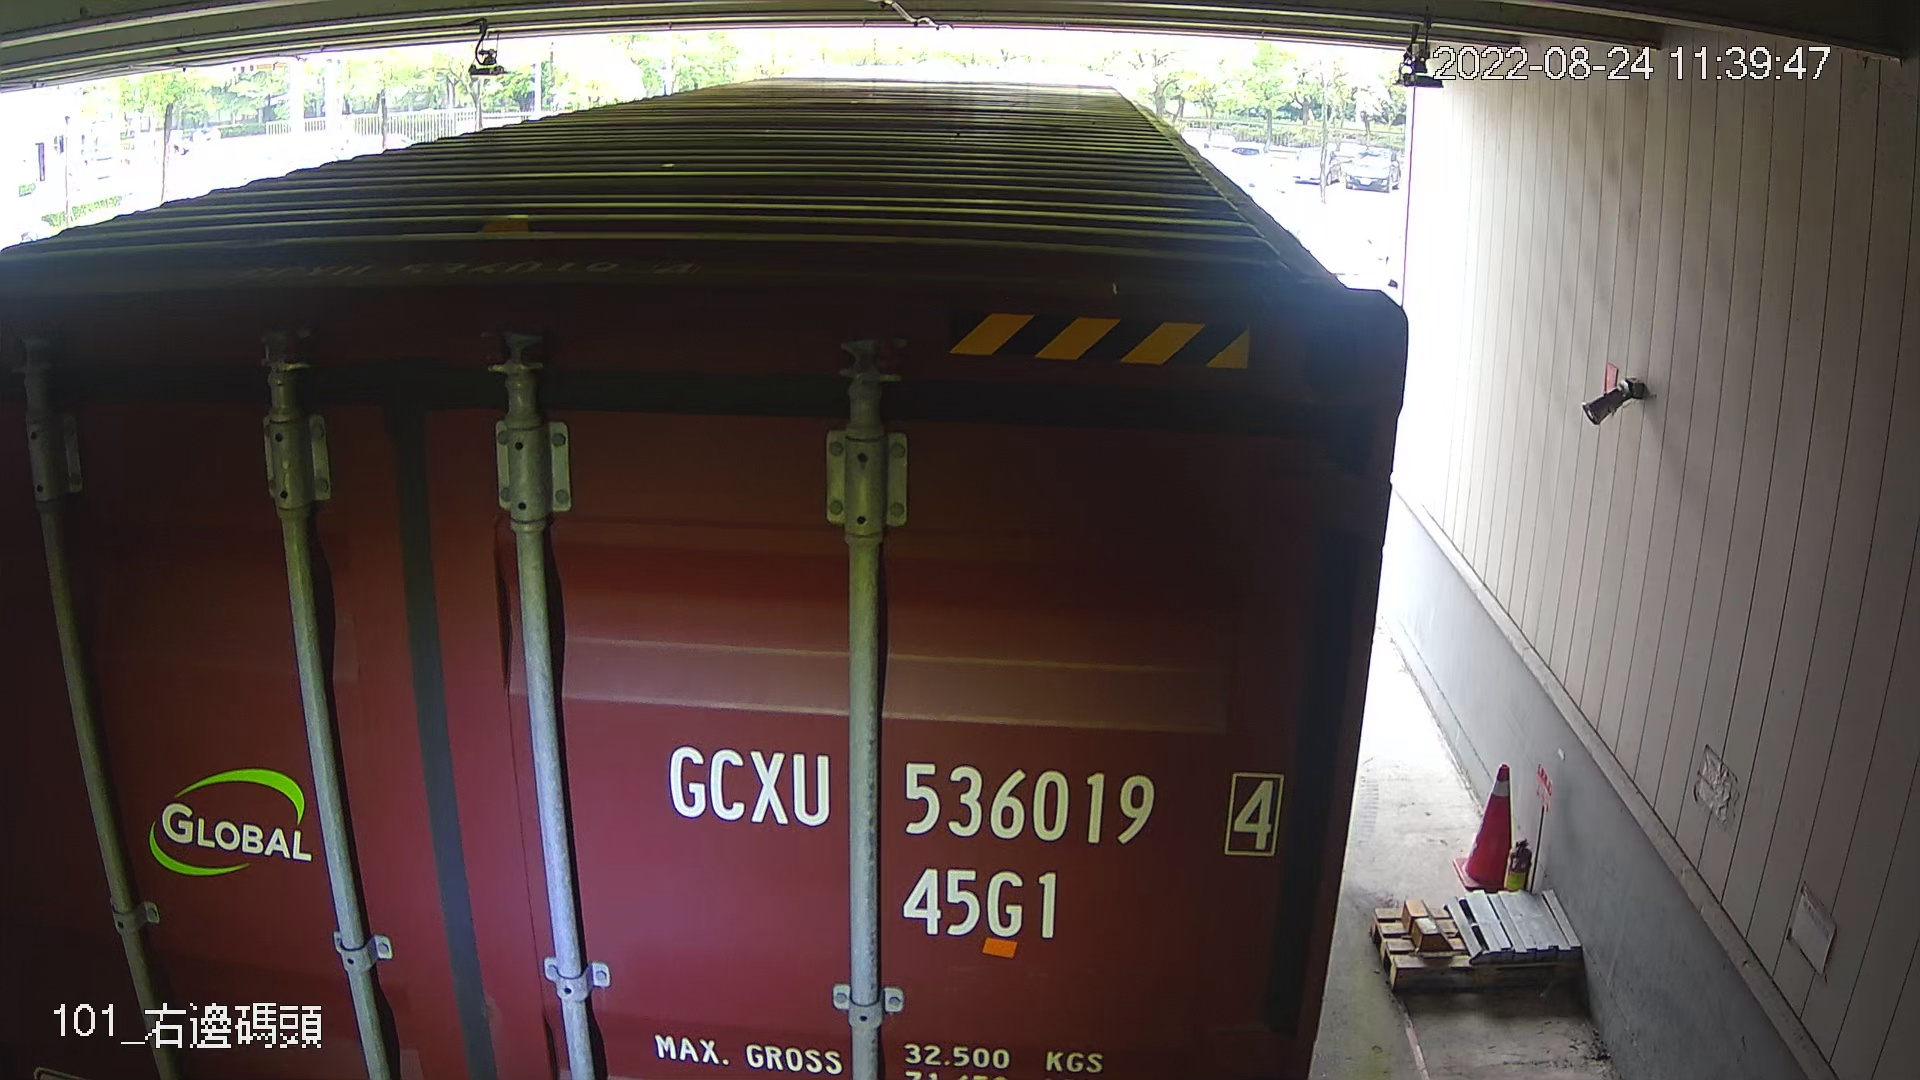container: (647, 723, 1298, 960)
